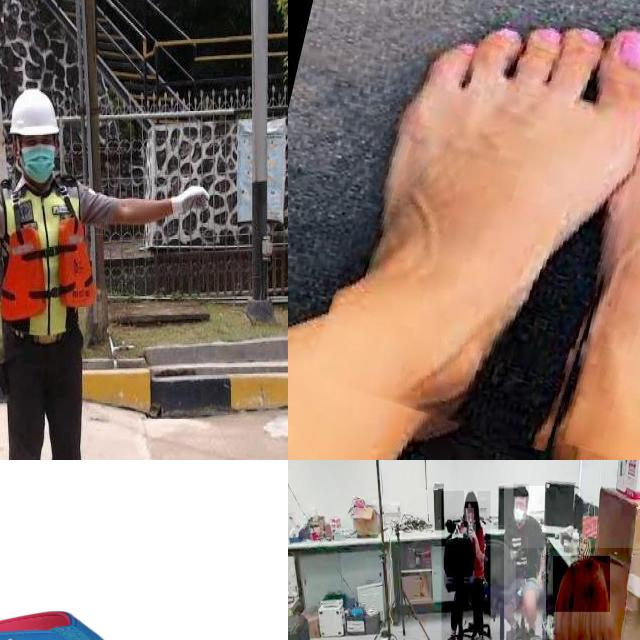Barefoots: (313, 0, 640, 453), (563, 54, 640, 460)
face_mask: (515, 498, 529, 520)
face_nomask: (464, 508, 474, 522)
hand_noglove: (468, 524, 477, 539), (536, 572, 542, 590)
head_helmet: (8, 90, 62, 135)
head_nohelmet: (553, 556, 611, 613), (514, 484, 530, 497), (464, 491, 478, 503)
person: (0, 71, 241, 460), (441, 491, 490, 640), (504, 485, 546, 640)
vest: (0, 182, 98, 324)
